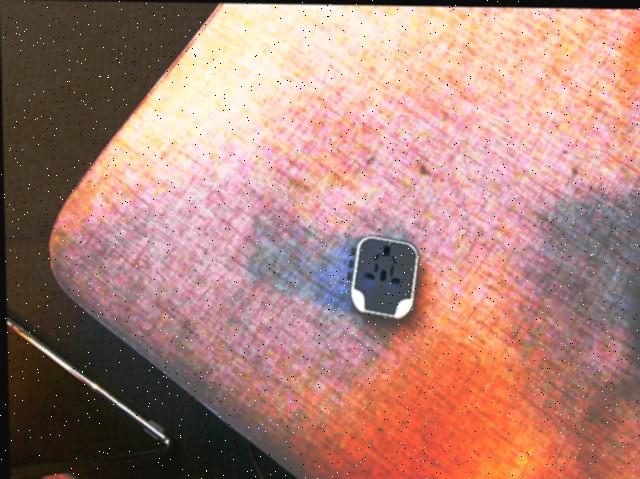adapter: (344, 233, 419, 319)
